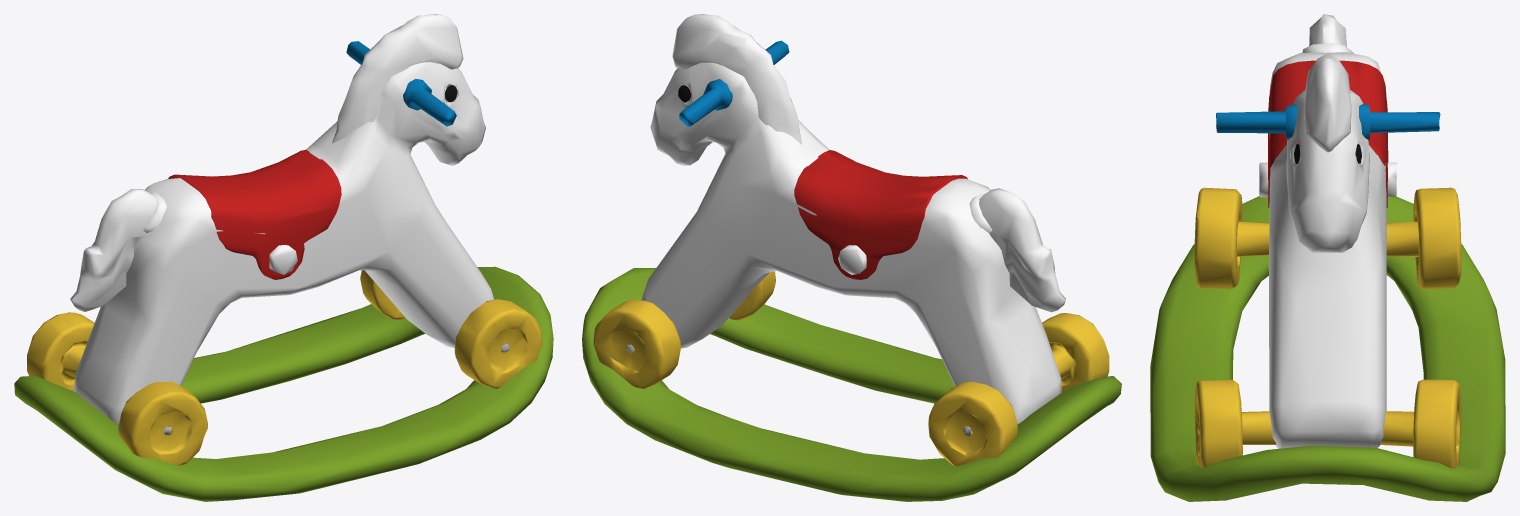
The model's file is Toy+House_Decimate_LOD1.fbx.
3 renders of one model, left to right at view 1: azimuth 30°, elevation 25°; view 2: azimuth 150°, elevation 25°; view 3: azimuth 270°, elevation 25°, orthographic. The views are drawn at different scales.
Parts seen in each view (by area): view 1: White matte plastic, green plastic, yellow plastic, red plastic, blue plastic; view 2: White matte plastic, green plastic, yellow plastic, red plastic, blue plastic; view 3: White matte plastic, green plastic, yellow plastic, red plastic, blue plastic.
Part boxes in pixels (x1,y1,x2,y2): White matte plastic: [70, 14, 494, 425]; green plastic: [14, 266, 553, 501]; yellow plastic: [27, 270, 542, 465]; red plastic: [168, 149, 341, 279]; blue plastic: [346, 41, 456, 126]; White matte plastic: [641, 14, 1065, 424]; green plastic: [582, 268, 1121, 501]; yellow plastic: [593, 271, 1109, 466]; red plastic: [794, 150, 967, 279]; blue plastic: [679, 40, 789, 126]; White matte plastic: [1259, 14, 1396, 448]; green plastic: [1150, 196, 1505, 501]; yellow plastic: [1194, 187, 1461, 468]; red plastic: [1268, 60, 1388, 207]; blue plastic: [1216, 104, 1440, 140].
Size of the model in its own units: 63 by 47.08 by 33.89.
7 materials, 7 textured.
